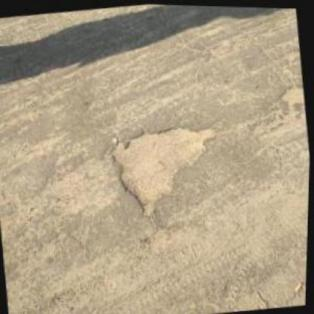Hueco: (103, 116, 228, 223), (277, 82, 306, 108)
